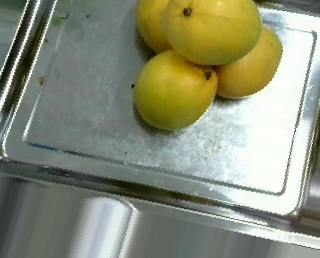Mango: (133, 49, 217, 131), (162, 0, 262, 66), (217, 28, 285, 97)
